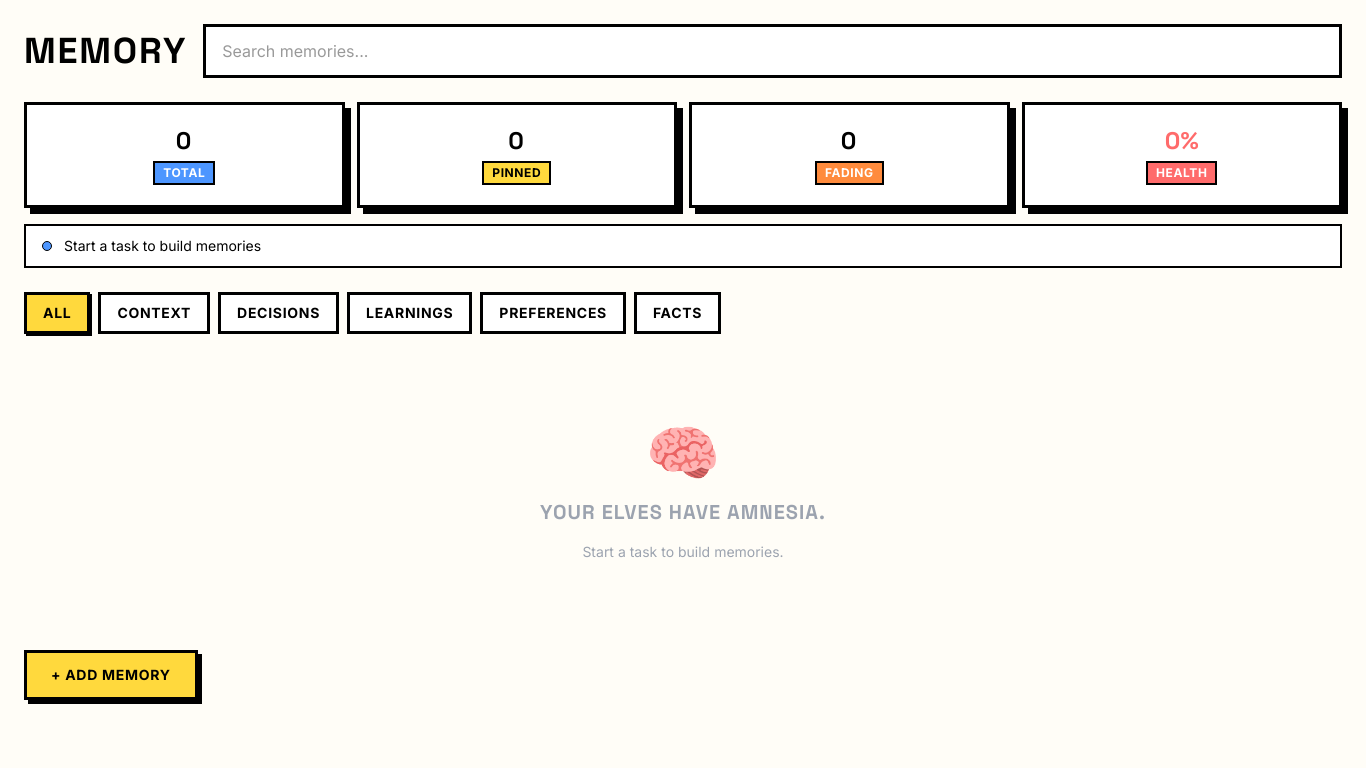
it: MemoryExplorer › opens the add memory form when button is clicked
Click the button with test id "add-memory-button".
click(111, 675)  # box x1=24 y1=650 x2=198 y2=700
(page scrolled)
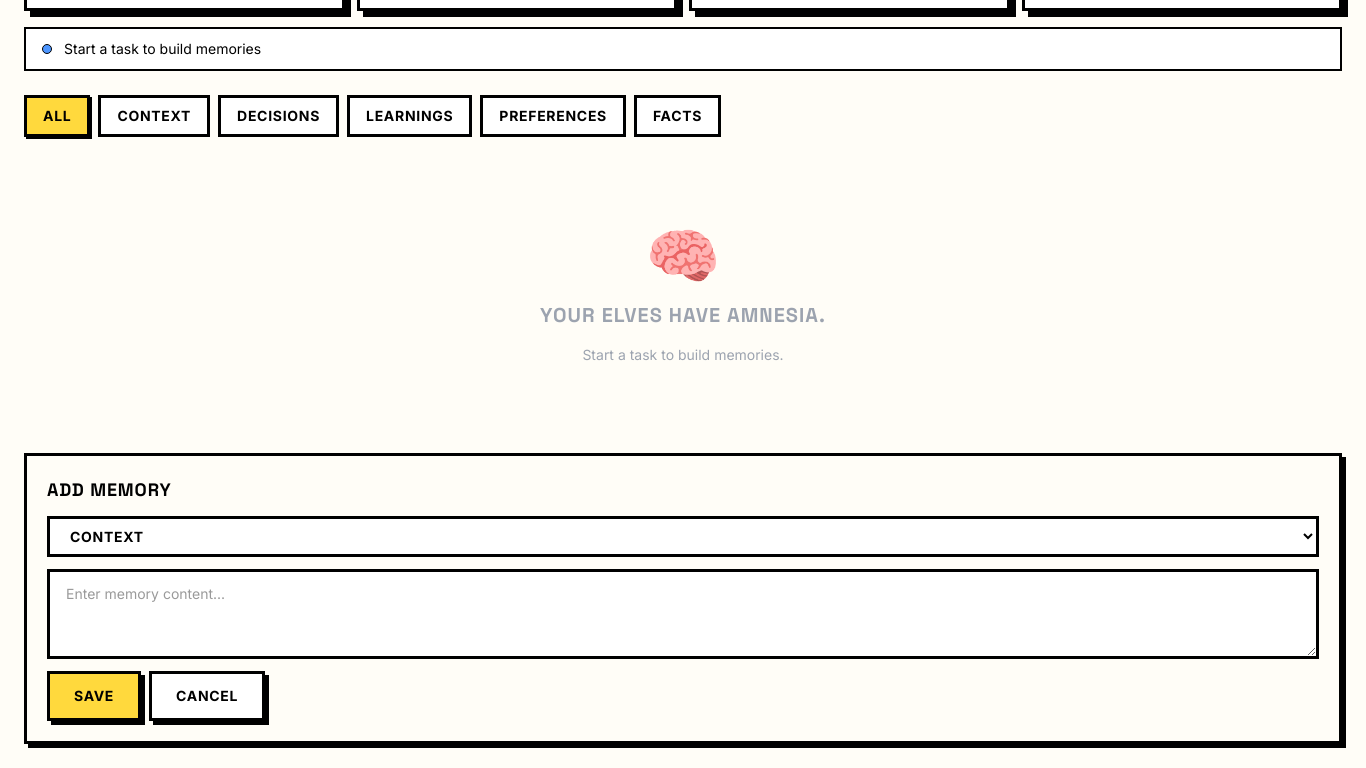
Result: the element with test id "add-memory-form" is shown at x1=24 y1=453 x2=1342 y2=744
Result: the dropdown with test id "add-memory-category" is shown at x1=47 y1=516 x2=1319 y2=557
Result: the text box with test id "add-memory-content" is shown at x1=47 y1=569 x2=1319 y2=659
